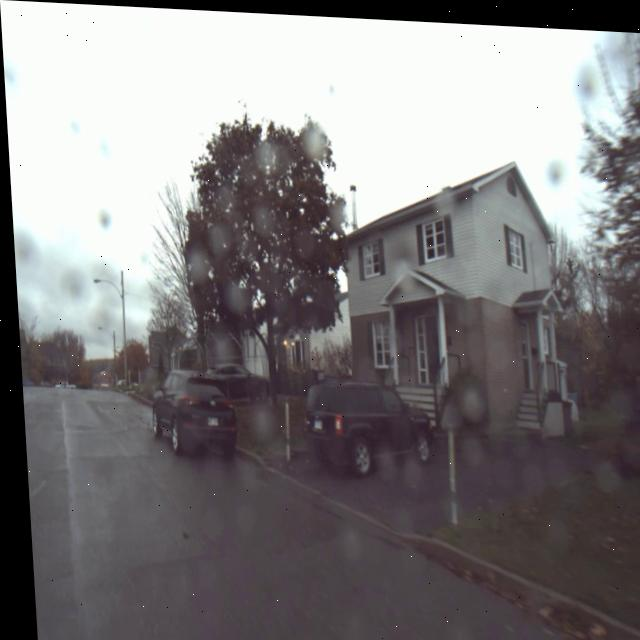car: (293, 375, 439, 485), (131, 354, 237, 456)
